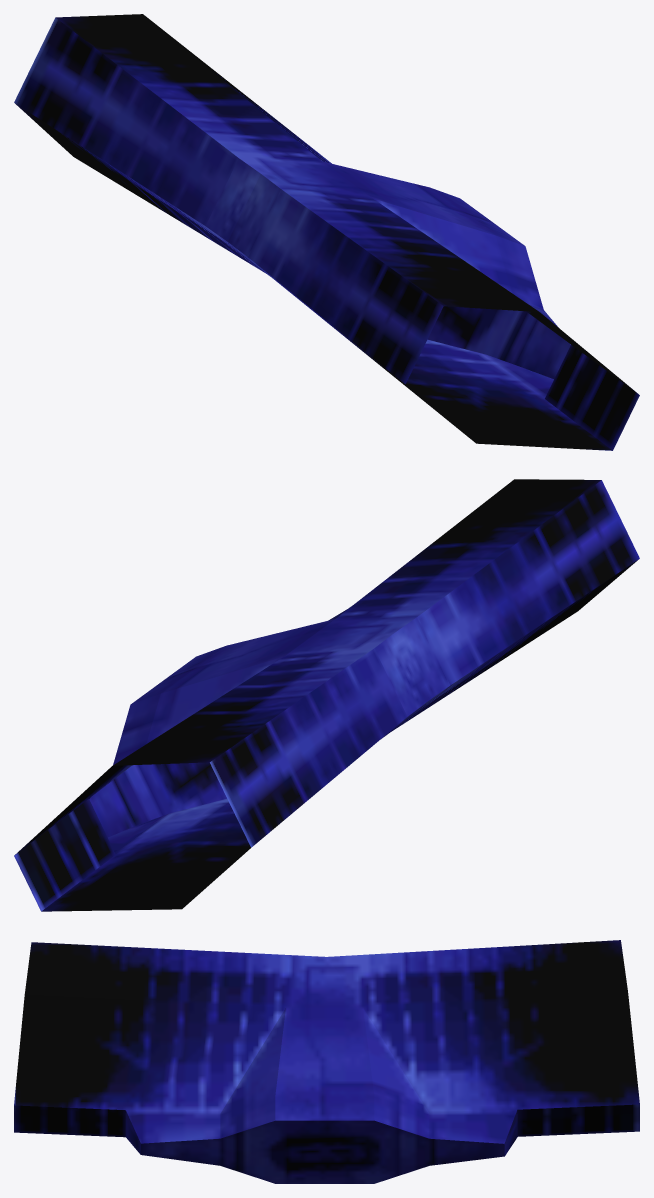
File: sin_mesh_-120.dae
3 views of the same model, one above another, from view 1: azimuth 30°, elevation 25°; view 2: azimuth 150°, elevation 25°; view 3: azimuth 270°, elevation 25° (orthographic). The views are drawn at different scales.
Parts seen in each view (by area): view 1: MULT[Root_mesh]_LOD[0]; view 2: MULT[Root_mesh]_LOD[0]; view 3: MULT[Root_mesh]_LOD[0].
Part boxes in pixels (left/top/right/bottom): MULT[Root_mesh]_LOD[0]: left=14, top=14, right=639, bottom=450; MULT[Root_mesh]_LOD[0]: left=14, top=479, right=639, bottom=911; MULT[Root_mesh]_LOD[0]: left=14, top=940, right=639, bottom=1183.
Size of the model in its own units: 64.17 by 50.9 by 162.
1 material, 1 textured.
